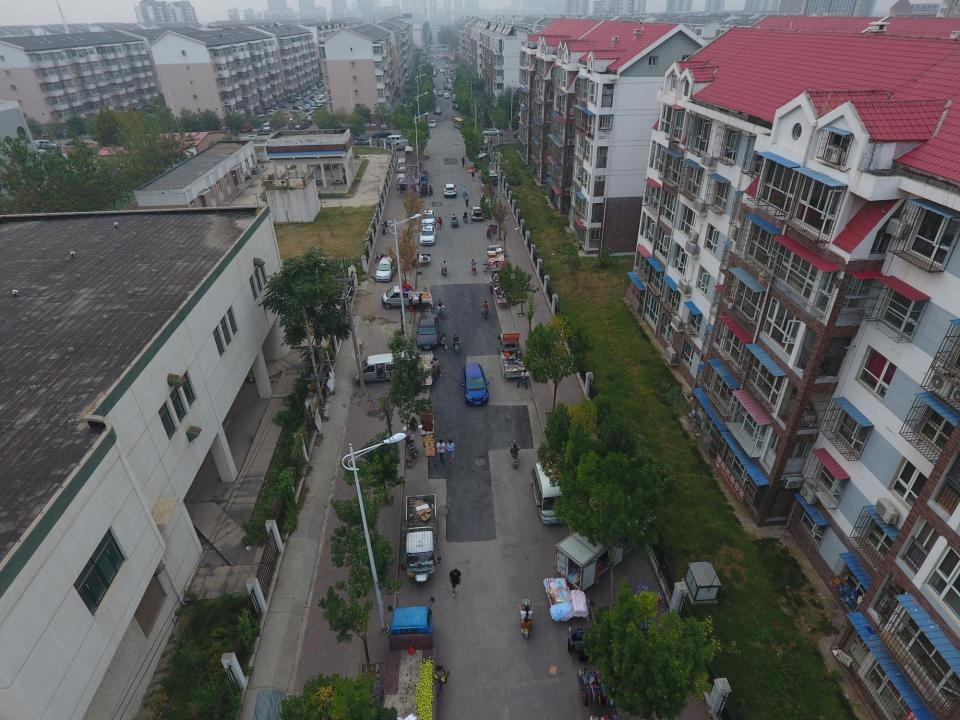bus: (452, 117, 465, 129)
car: (461, 363, 490, 405), (414, 314, 440, 349), (375, 256, 397, 282), (418, 224, 436, 246), (420, 210, 436, 228), (469, 206, 484, 221), (443, 183, 457, 198), (481, 127, 503, 136), (346, 132, 366, 141), (353, 137, 372, 146), (371, 130, 392, 138), (513, 130, 526, 138), (433, 107, 442, 115), (428, 120, 436, 128), (452, 104, 460, 110)
truck: (381, 597, 437, 720), (554, 513, 642, 591), (400, 493, 441, 588), (496, 332, 528, 378), (381, 285, 433, 310), (486, 244, 506, 272)
van: (530, 461, 572, 525), (354, 349, 421, 386), (390, 139, 411, 152), (474, 152, 491, 166), (395, 173, 408, 190), (385, 134, 404, 145), (396, 157, 408, 173), (486, 169, 498, 184), (404, 145, 414, 159)
